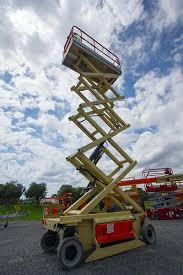Scissor Lift: (40, 24, 157, 269), (141, 167, 178, 222)
